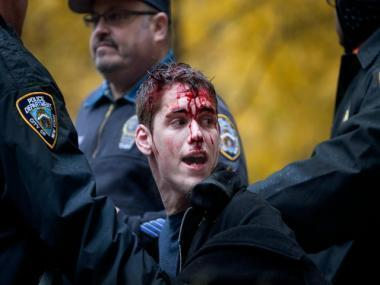Fire: (161, 82, 220, 181)
